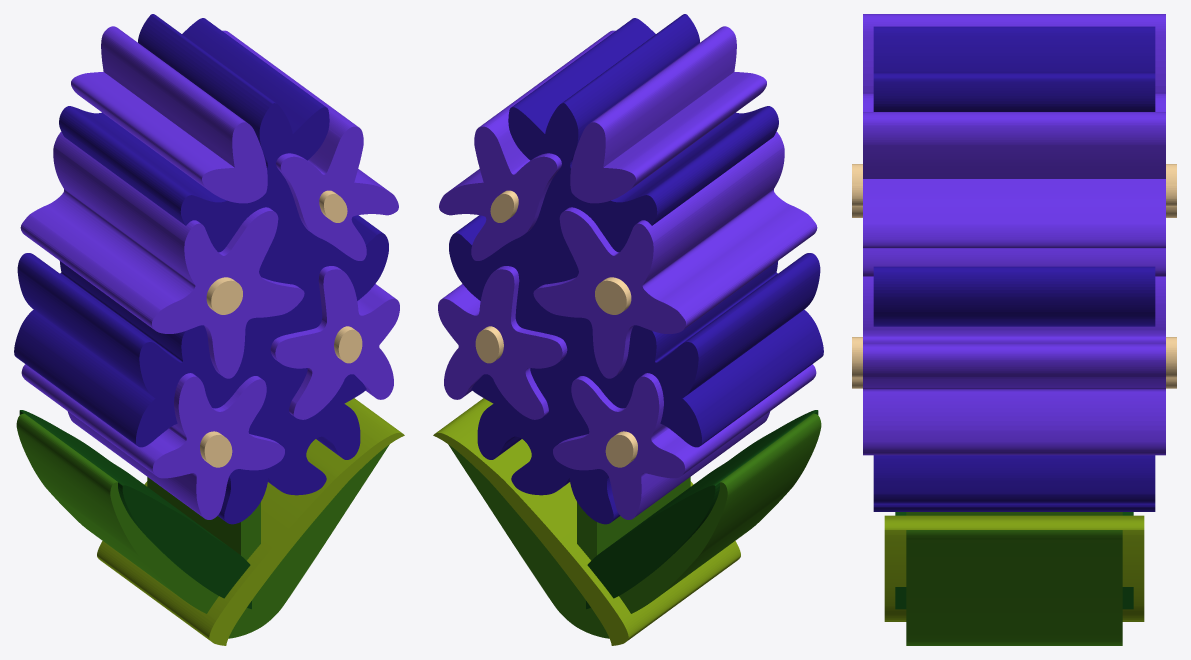
Rendered from U+1FABB.obj.
The picture shows the model from 3 angles, left to right: view 1: azimuth 30°, elevation 25°; view 2: azimuth 150°, elevation 25°; view 3: azimuth 270°, elevation 25°; orthographic projection. The views are drawn at different scales.
Visible parts, largest first — view 1: U+1FABB_layer03_obj00, U+1FABB_layer04_obj00, U+1FABB_layer04_obj04, U+1FABB_layer04_obj01, U+1FABB_layer02_obj00, U+1FABB_layer04_obj02, U+1FABB_layer00_obj00, U+1FABB_layer04_obj03, U+1FABB_layer01_obj00, U+1FABB_layer00_obj01, U+1FABB_layer00_obj02, U+1FABB_layer05_obj00 (+3 smaller); view 2: U+1FABB_layer03_obj00, U+1FABB_layer04_obj00, U+1FABB_layer04_obj04, U+1FABB_layer04_obj01, U+1FABB_layer02_obj00, U+1FABB_layer04_obj02, U+1FABB_layer00_obj00, U+1FABB_layer04_obj03, U+1FABB_layer01_obj00, U+1FABB_layer00_obj01, U+1FABB_layer00_obj02, U+1FABB_layer05_obj00 (+3 smaller); view 3: U+1FABB_layer03_obj00, U+1FABB_layer04_obj03, U+1FABB_layer04_obj02, U+1FABB_layer00_obj01, U+1FABB_layer02_obj00, U+1FABB_layer04_obj04, U+1FABB_layer05_obj01, U+1FABB_layer05_obj02, U+1FABB_layer00_obj02, U+1FABB_layer01_obj00.
Boxes of the visible parts, x1,y1,x2,y2 form: U+1FABB_layer03_obj00: (14,14,388,524); U+1FABB_layer04_obj00: (20,131,304,378); U+1FABB_layer04_obj04: (71,26,267,203); U+1FABB_layer04_obj01: (21,364,284,519); U+1FABB_layer02_obj00: (97,398,404,645); U+1FABB_layer04_obj02: (270,266,399,419); U+1FABB_layer00_obj00: (16,413,260,619); U+1FABB_layer04_obj03: (222,30,398,260); U+1FABB_layer01_obj00: (19,410,251,609); U+1FABB_layer00_obj01: (228,444,389,638); U+1FABB_layer00_obj02: (147,477,260,590); U+1FABB_layer05_obj00: (206,277,242,314); U+1FABB_layer03_obj00: (449,14,823,524); U+1FABB_layer04_obj00: (533,131,817,378); U+1FABB_layer04_obj04: (570,26,766,203); U+1FABB_layer04_obj01: (553,364,816,519); U+1FABB_layer02_obj00: (433,398,740,645); U+1FABB_layer04_obj02: (438,266,567,419); U+1FABB_layer00_obj00: (577,413,821,619); U+1FABB_layer04_obj03: (439,30,615,260); U+1FABB_layer01_obj00: (586,410,818,609); U+1FABB_layer00_obj01: (448,444,609,638); U+1FABB_layer00_obj02: (577,477,690,590); U+1FABB_layer05_obj00: (595,277,631,314); U+1FABB_layer03_obj00: (873,26,1155,511); U+1FABB_layer04_obj03: (863,93,1165,276); U+1FABB_layer04_obj02: (863,276,1165,455); U+1FABB_layer00_obj01: (906,530,1122,645); U+1FABB_layer02_obj00: (884,515,1144,621); U+1FABB_layer04_obj04: (863,14,1165,93); U+1FABB_layer05_obj01: (852,164,1176,206); U+1FABB_layer05_obj02: (852,337,1176,377); U+1FABB_layer00_obj02: (906,512,1122,515); U+1FABB_layer01_obj00: (895,512,1133,609).
Bounding box in the file's own units: 0.1759 × 0.3173 × 0.15.
